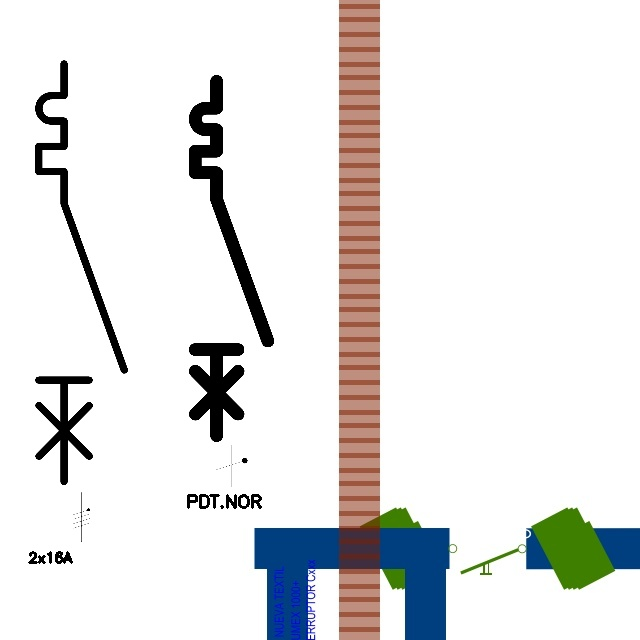interruptor_termomagnetico: (28, 53, 135, 492), (186, 72, 277, 445)
